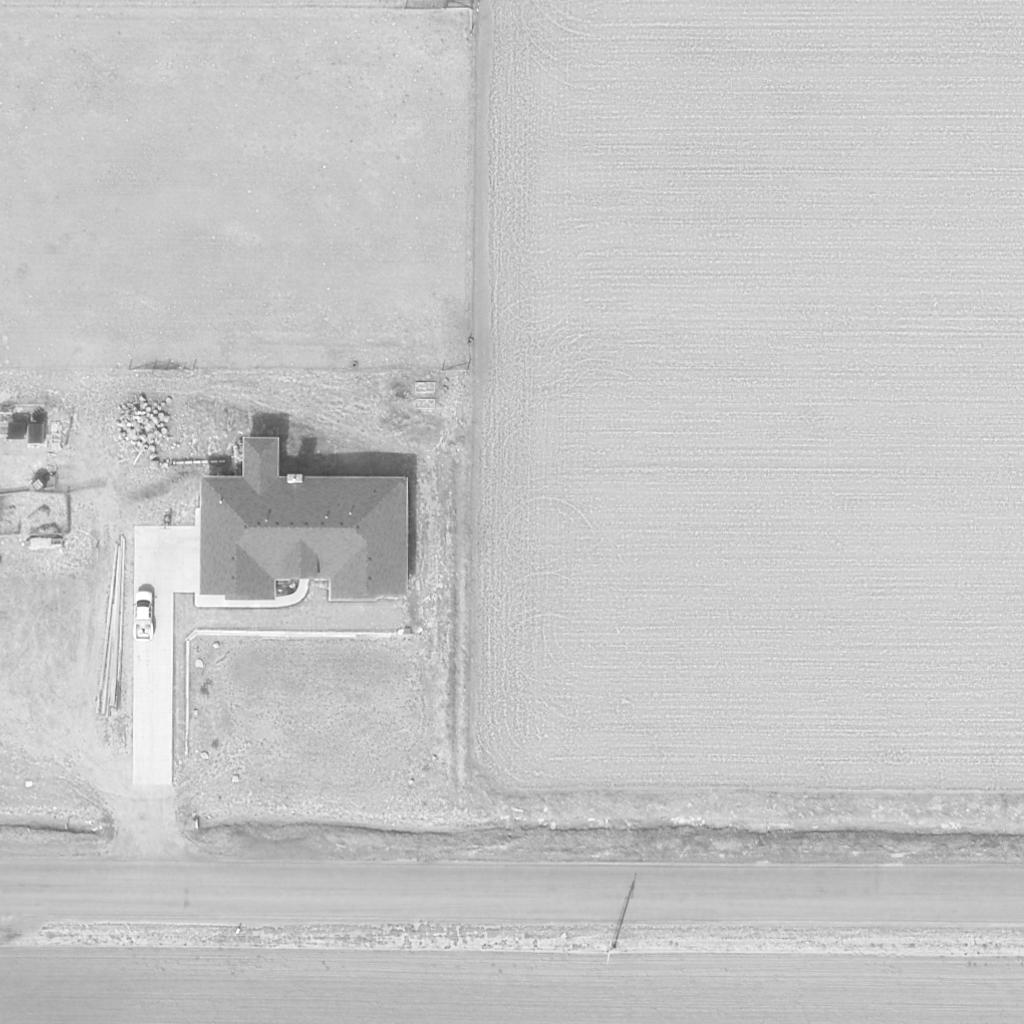vehicle: (133, 591, 155, 643)
